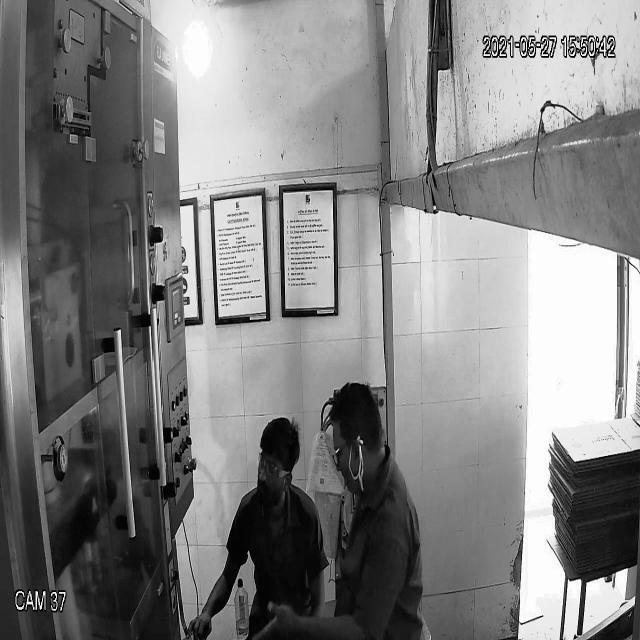glasses: (255, 451, 298, 485)
